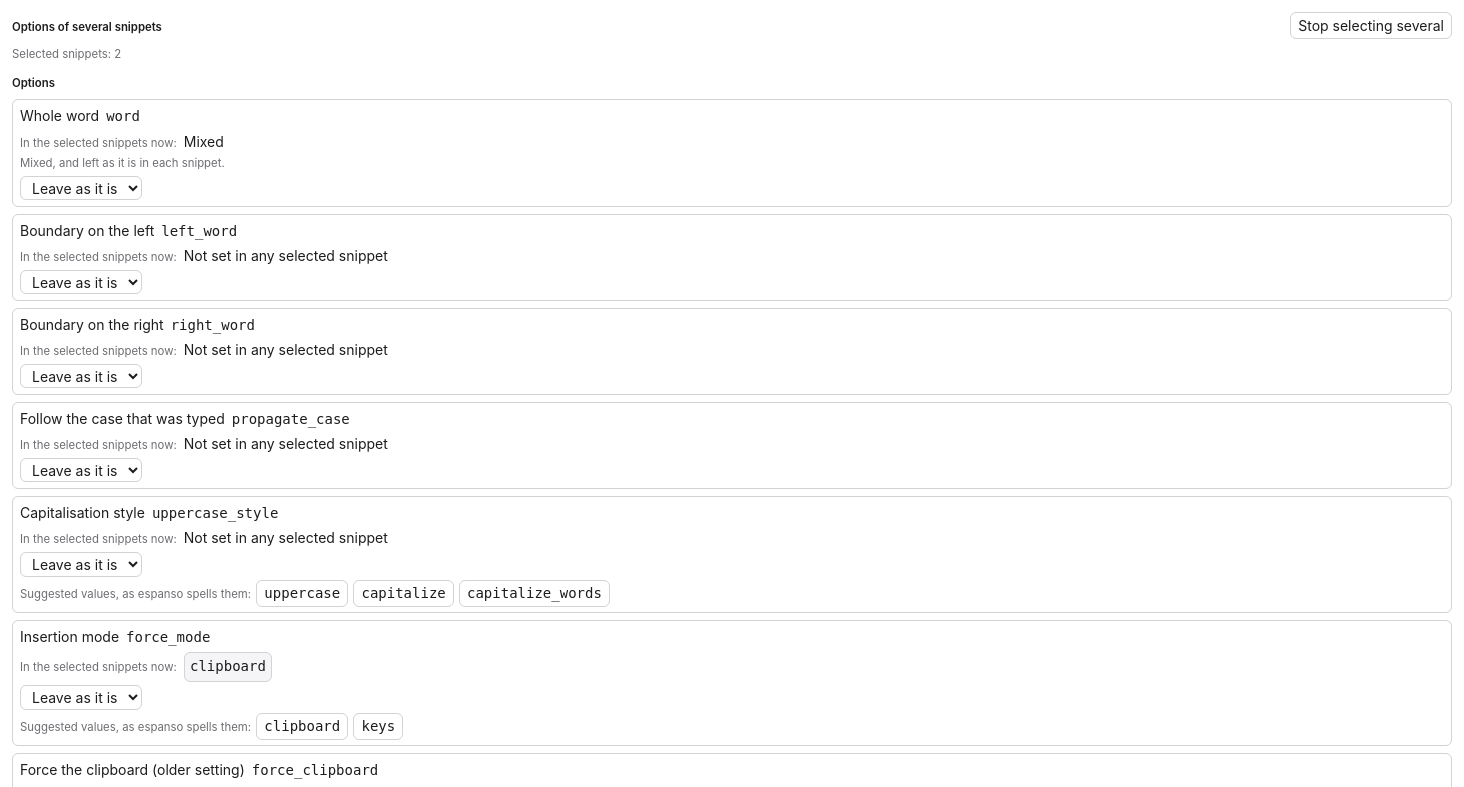
Test case: the inspector alone, in en › draws Mixed from two spellings of one text and the shared bytes of another, and sends nothing untouched
This screenshot has width=1464, height=787.
Expected: the text "Mixed" is shown, left=184, top=131, right=224, bottom=152
Expected: the text with class "mixed" reads "Mixed, and left as it is in each snippet.", left=20, top=156, right=225, bottom=170
Select "Remove" in the dropdown named "What to do with word": (81, 188) left=20, top=176, right=142, bottom=200
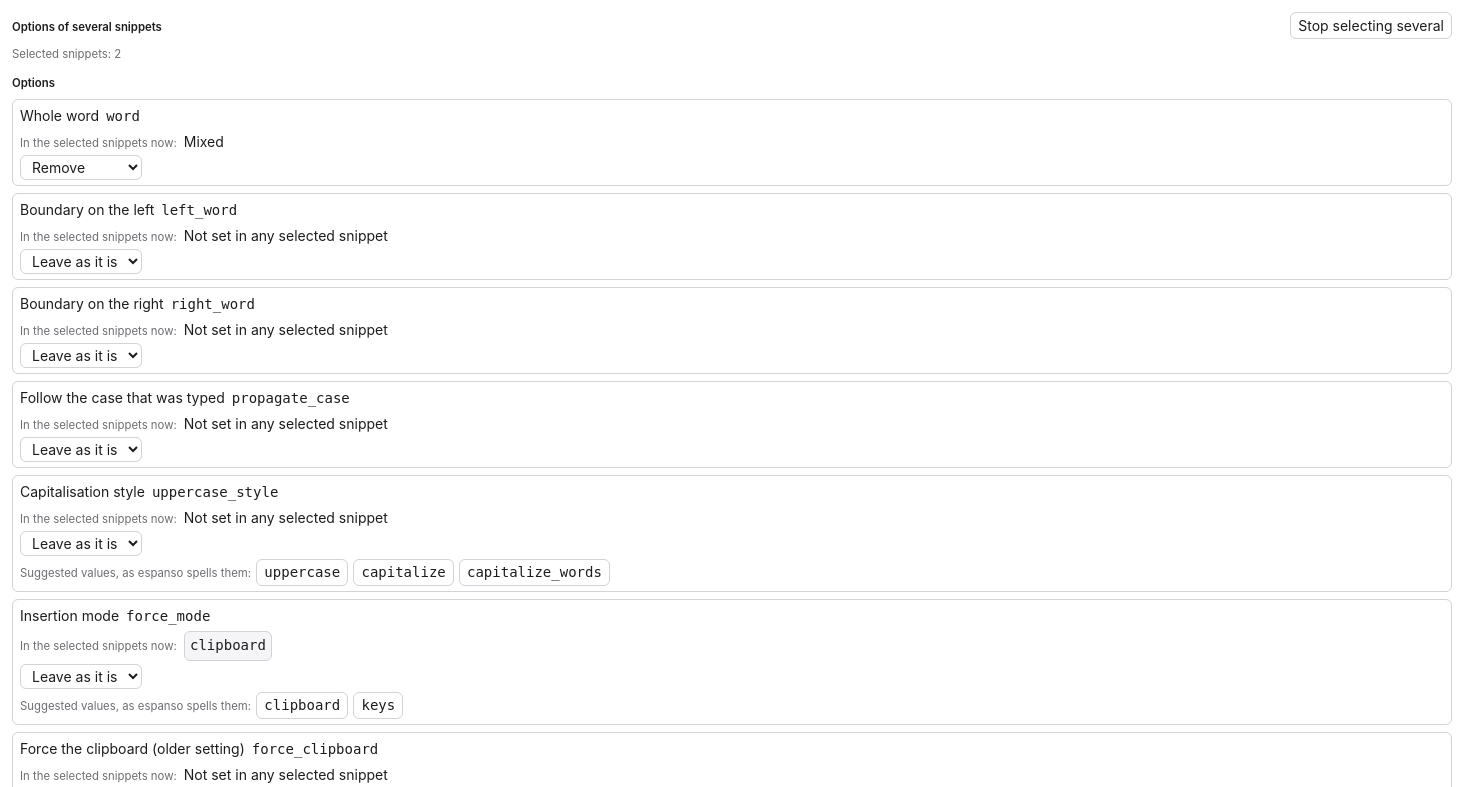
Result: the text with class "mixed" is gone
